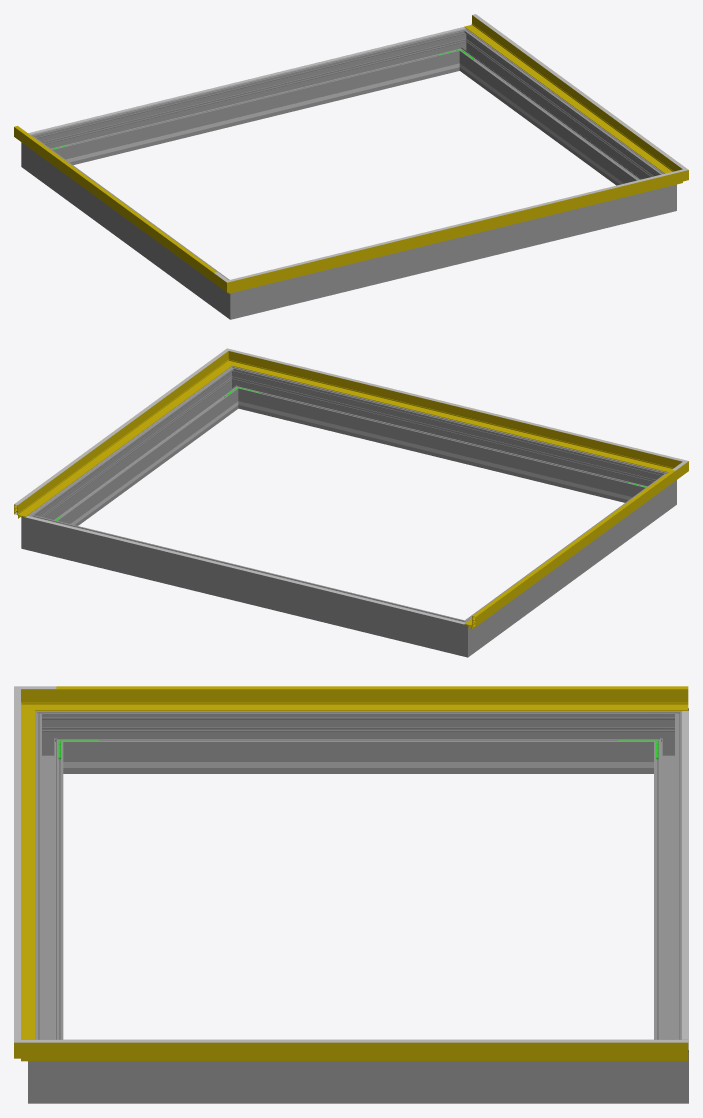
The picture shows the model from 3 angles, top to bottom: view 1: azimuth 30°, elevation 25°; view 2: azimuth 150°, elevation 25°; view 3: azimuth 270°, elevation 25°; orthographic projection. The views are drawn at different scales.
Visible parts, largest first — view 1: 3DGeom-276, 3DGeom-298, 3DGeom-297, 3DGeom-56, 3DGeom-268, 3DGeom-58, 3DGeom-50, 3DGeom-244, 3DGeom-220, 3DGeom-66, 3DGeom-270, 3DGeom-64 (+5 smaller); view 2: 3DGeom-298, 3DGeom-276, 3DGeom-297, 3DGeom-56, 3DGeom-268, 3DGeom-58, 3DGeom-50, 3DGeom-239, 3DGeom-278, 3DGeom-220, 3DGeom-66, 3DGeom-284 (+5 smaller); view 3: 3DGeom-268, 3DGeom-297, 3DGeom-50, 3DGeom-58, 3DGeom-298, 3DGeom-276, 3DGeom-56, 3DGeom-232, 3DGeom-220, 3DGeom-66, 3DGeom-64, 3DGeom-71 (+6 smaller).
Boxes of the visible parts, left/top/right/bottom form: 3DGeom-276: left=46, top=33, right=455, bottom=165; 3DGeom-298: left=253, top=190, right=653, bottom=314; 3DGeom-297: left=462, top=36, right=659, bottom=185; 3DGeom-56: left=248, top=175, right=665, bottom=288; 3DGeom-268: left=34, top=142, right=223, bottom=309; 3DGeom-58: left=464, top=15, right=671, bottom=172; 3DGeom-50: left=14, top=127, right=213, bottom=282; 3DGeom-244: left=74, top=69, right=437, bottom=161; 3DGeom-220: left=28, top=27, right=465, bottom=134; 3DGeom-66: left=248, top=174, right=665, bottom=276; 3DGeom-270: left=217, top=276, right=253, bottom=319; 3DGeom-64: left=472, top=14, right=674, bottom=160; 3DGeom-298: left=242, top=371, right=651, bottom=502; 3DGeom-276: left=44, top=519, right=448, bottom=651; 3DGeom-297: left=38, top=374, right=236, bottom=525; 3DGeom-56: left=243, top=355, right=663, bottom=470; 3DGeom-268: left=474, top=480, right=663, bottom=647; 3DGeom-58: left=14, top=359, right=224, bottom=518; 3DGeom-50: left=464, top=471, right=675, bottom=629; 3DGeom-239: left=260, top=406, right=624, bottom=498; 3DGeom-278: left=445, top=614, right=481, bottom=657; 3DGeom-220: left=25, top=516, right=465, bottom=624; 3DGeom-66: left=248, top=354, right=665, bottom=456; 3DGeom-284: left=21, top=507, right=48, bottom=554; 3DGeom-268: left=70, top=711, right=646, bottom=773; 3DGeom-297: left=70, top=1061, right=646, bottom=1103; 3DGeom-50: left=56, top=689, right=688, bottom=710; 3DGeom-58: left=56, top=1039, right=688, bottom=1061; 3DGeom-298: left=35, top=726, right=63, bottom=1039; 3DGeom-276: left=654, top=726, right=681, bottom=1039; 3DGeom-56: left=21, top=717, right=34, bottom=1039; 3DGeom-232: left=104, top=762, right=612, bottom=767; 3DGeom-220: left=682, top=710, right=688, bottom=1050; 3DGeom-66: left=14, top=704, right=20, bottom=1024; 3DGeom-64: left=56, top=1040, right=688, bottom=1042; 3DGeom-71: left=56, top=686, right=688, bottom=688.
Bounding box in the file's own units: 3.05 × 0.2669 × 2.44.
